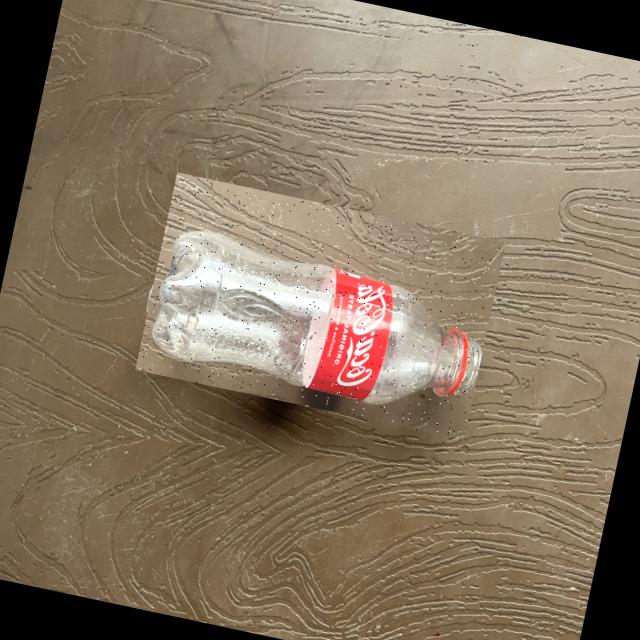REJECT: (133, 172, 504, 439)
